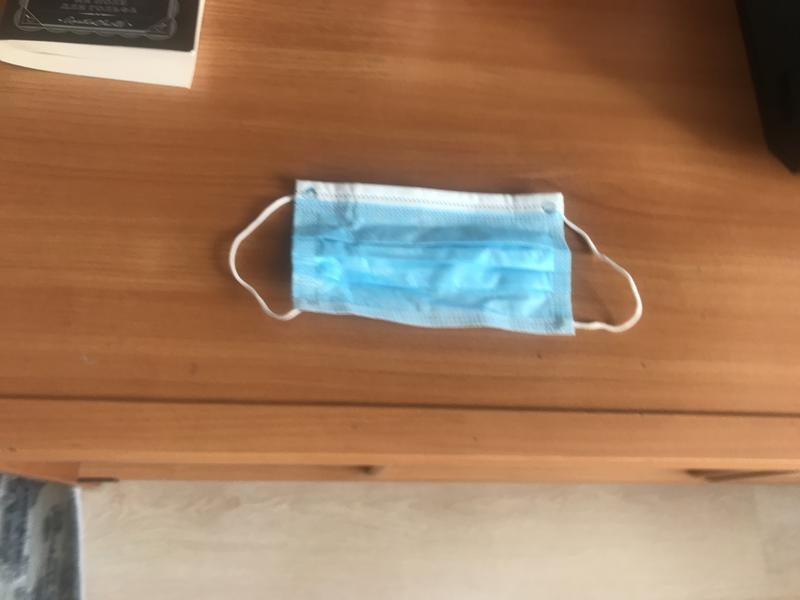medical_mask: (231, 178, 644, 335)
